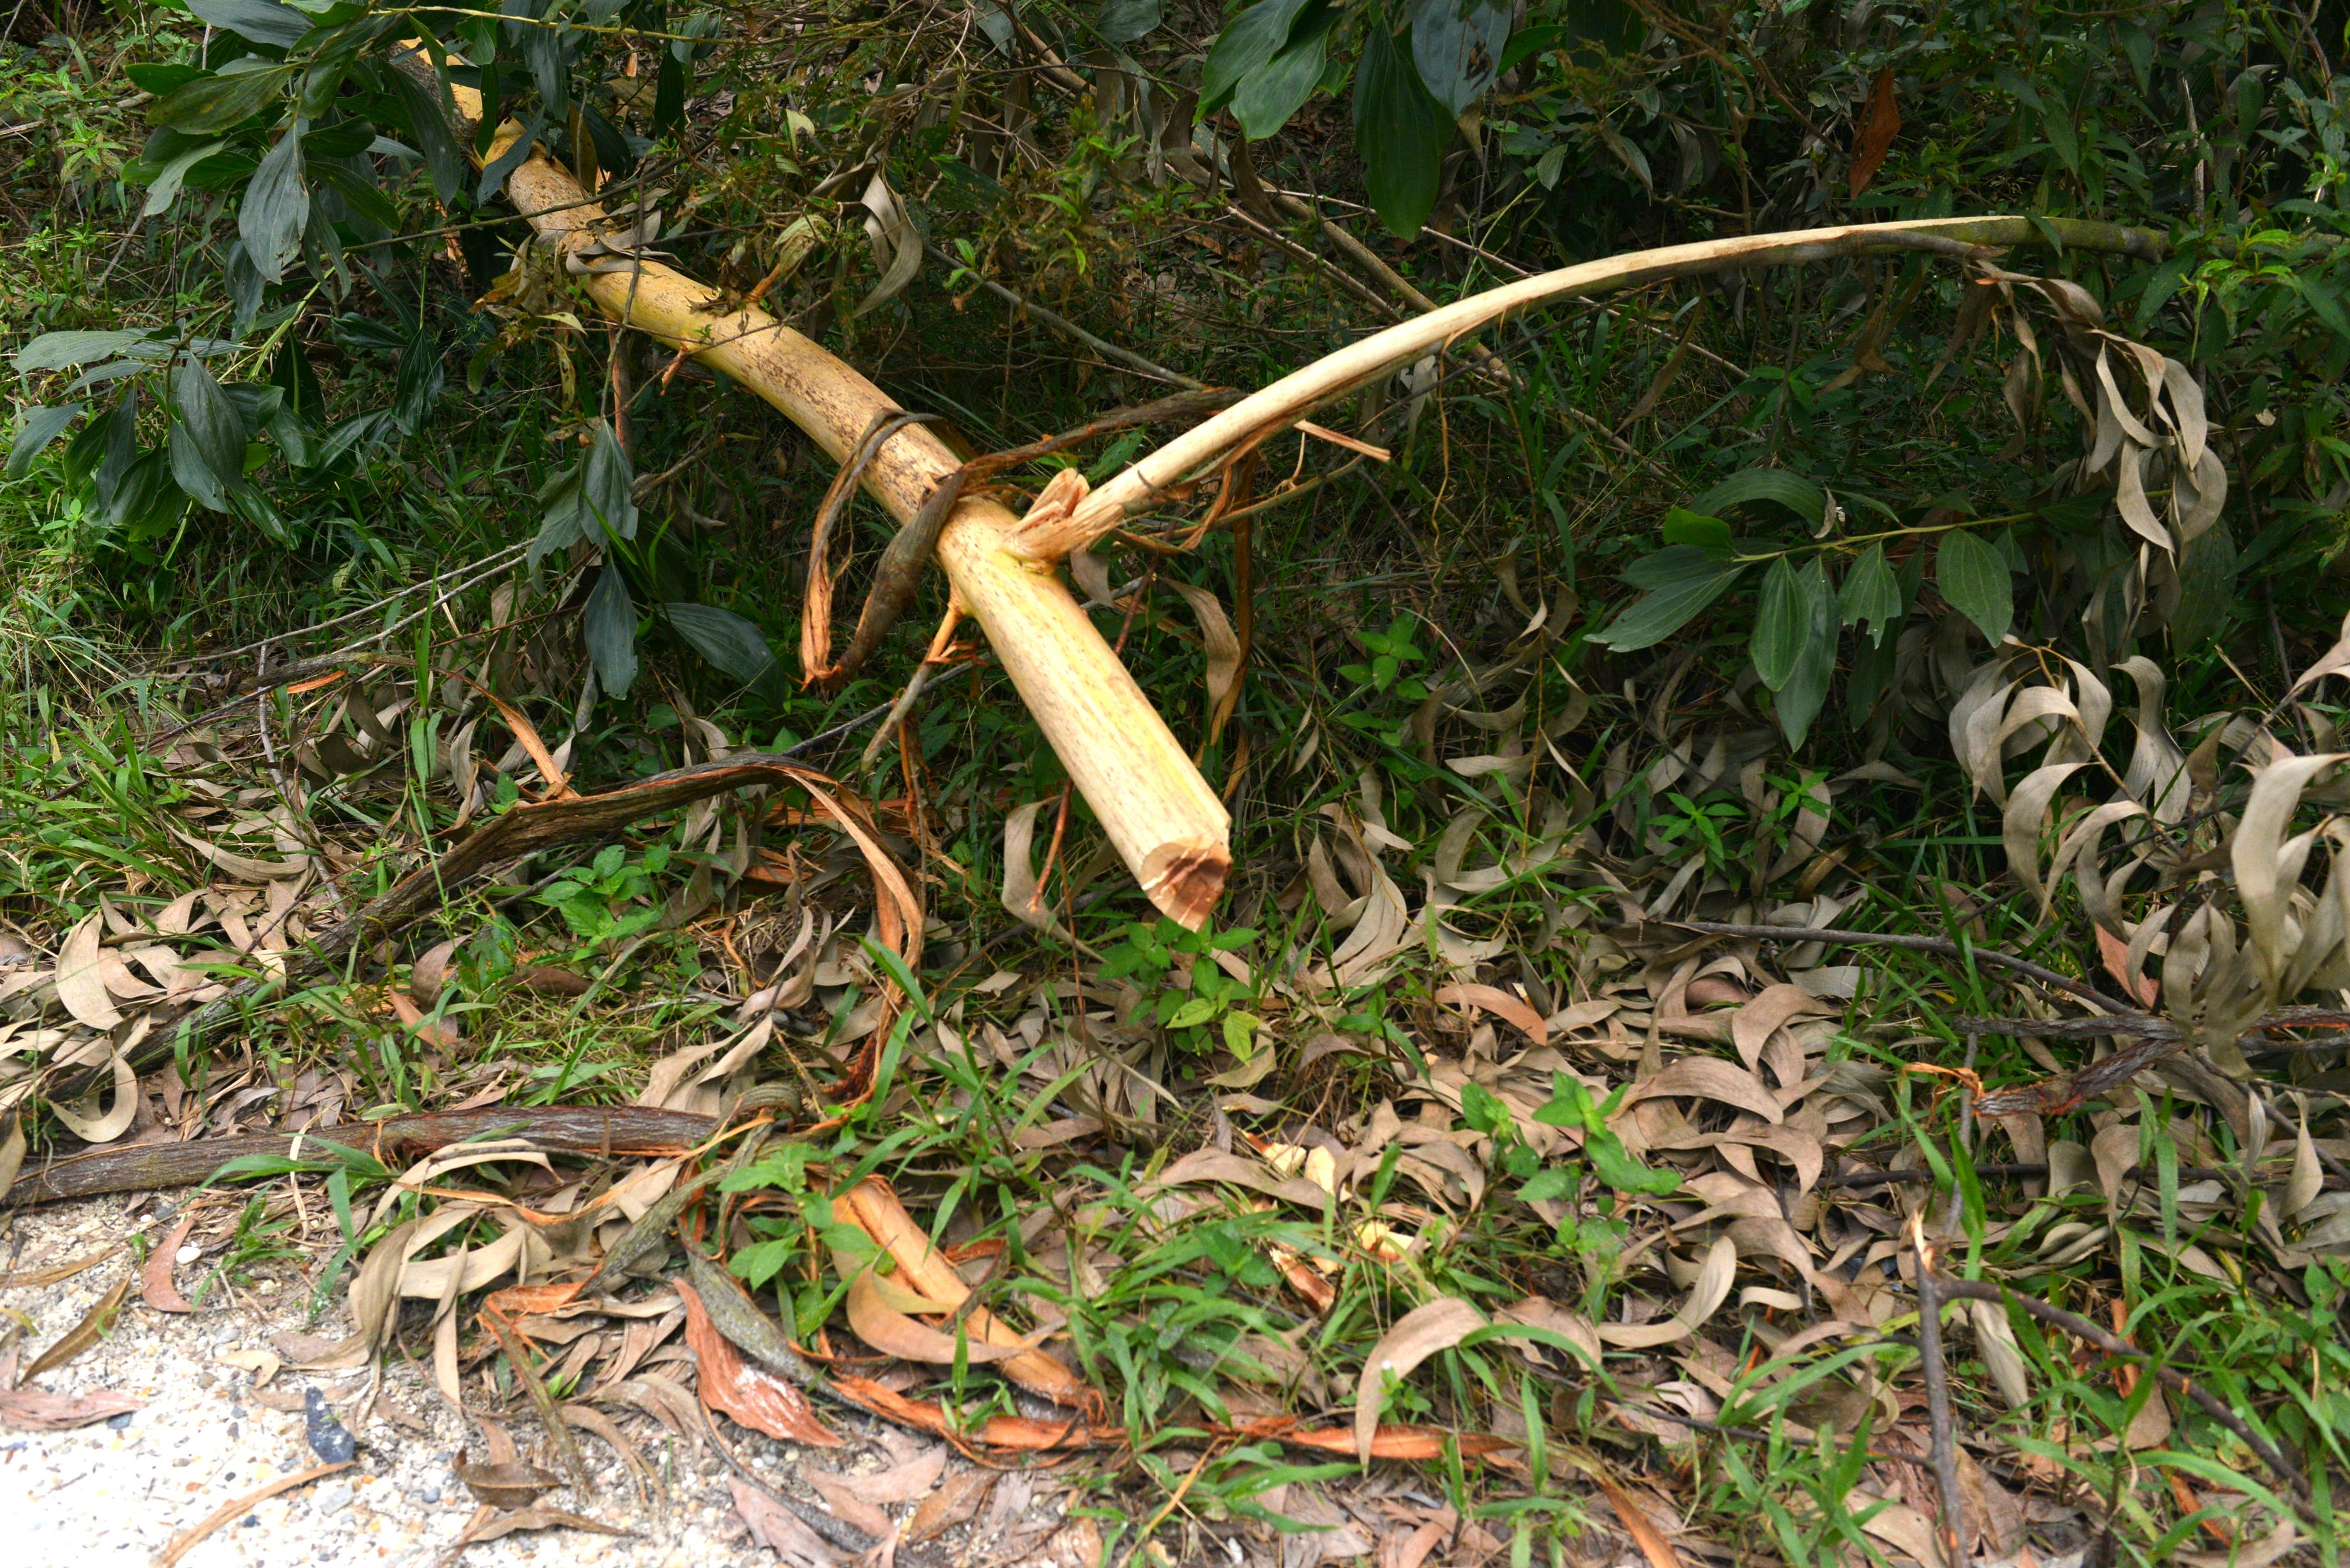Mammals Attack: (355, 56, 1234, 936), (1029, 205, 2016, 562)
